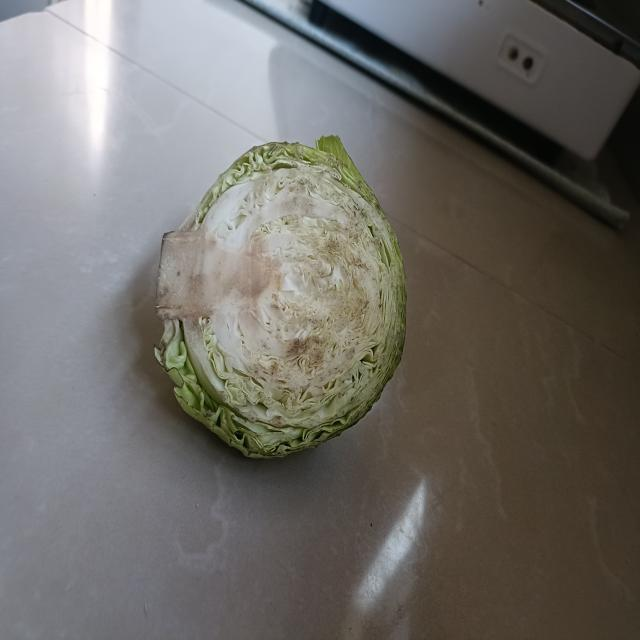cabbage: (151, 139, 407, 456)
